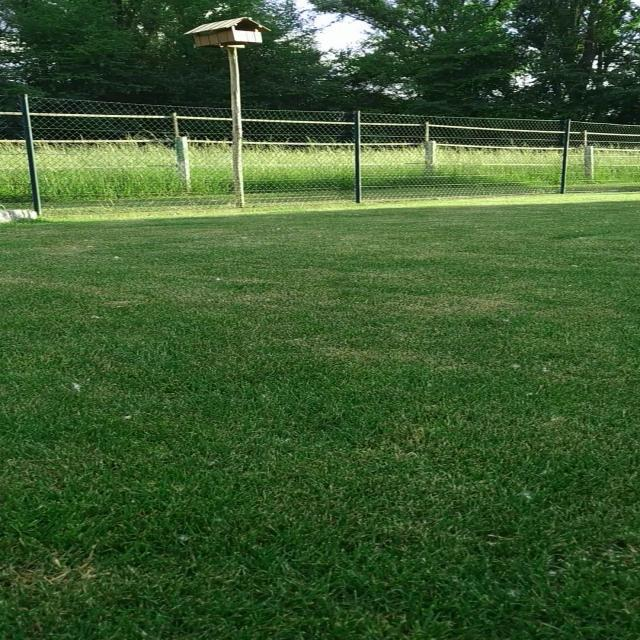lawn: (0, 202, 640, 640)
